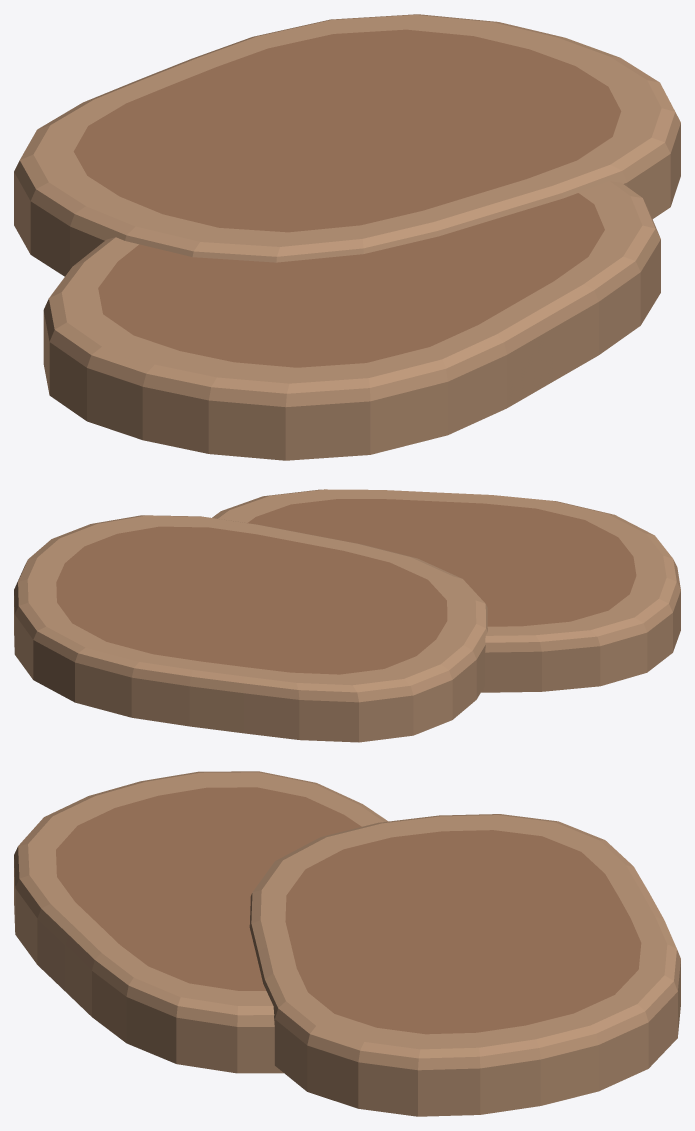
File: LomoFrito.fbx
3 renders of one model, top to bottom at view 1: azimuth 30°, elevation 25°; view 2: azimuth 150°, elevation 25°; view 3: azimuth 270°, elevation 25°, orthographic. The views are drawn at different scales.
Parts seen in each view (by area): view 1: Lomo; view 2: Lomo; view 3: Lomo.
Boxes of the visible parts, box(x1,y1,x2,y2) form: Lomo: box(14, 14, 680, 460); Lomo: box(14, 489, 680, 742); Lomo: box(14, 771, 680, 1116).
Bounding box in the file's own units: 23.5 × 2.5 × 22.1.
